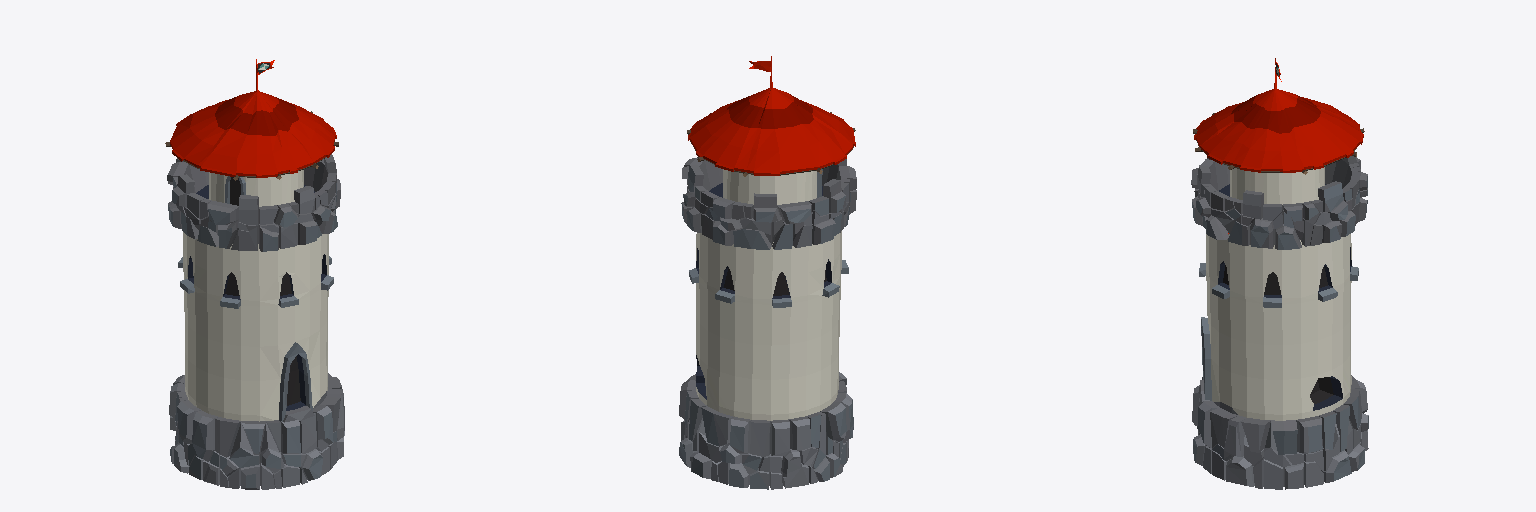
3 renders of one model, left to right at view 1: azimuth 30°, elevation 25°; view 2: azimuth 150°, elevation 25°; view 3: azimuth 270°, elevation 25°, orthographic.
Visible parts, largest first — view 1: Castle_asset_CUCylinder.001; view 2: Castle_asset_CUCylinder.001; view 3: Castle_asset_CUCylinder.001.
Part boxes in pixels (x1,y1,x2,y2): Castle_asset_CUCylinder.001: (165,59,344,489); Castle_asset_CUCylinder.001: (679,56,856,489); Castle_asset_CUCylinder.001: (1191,58,1368,489).
Size of the model in its own units: 5.19 by 12.77 by 5.12.
1 materials, 1 textured.